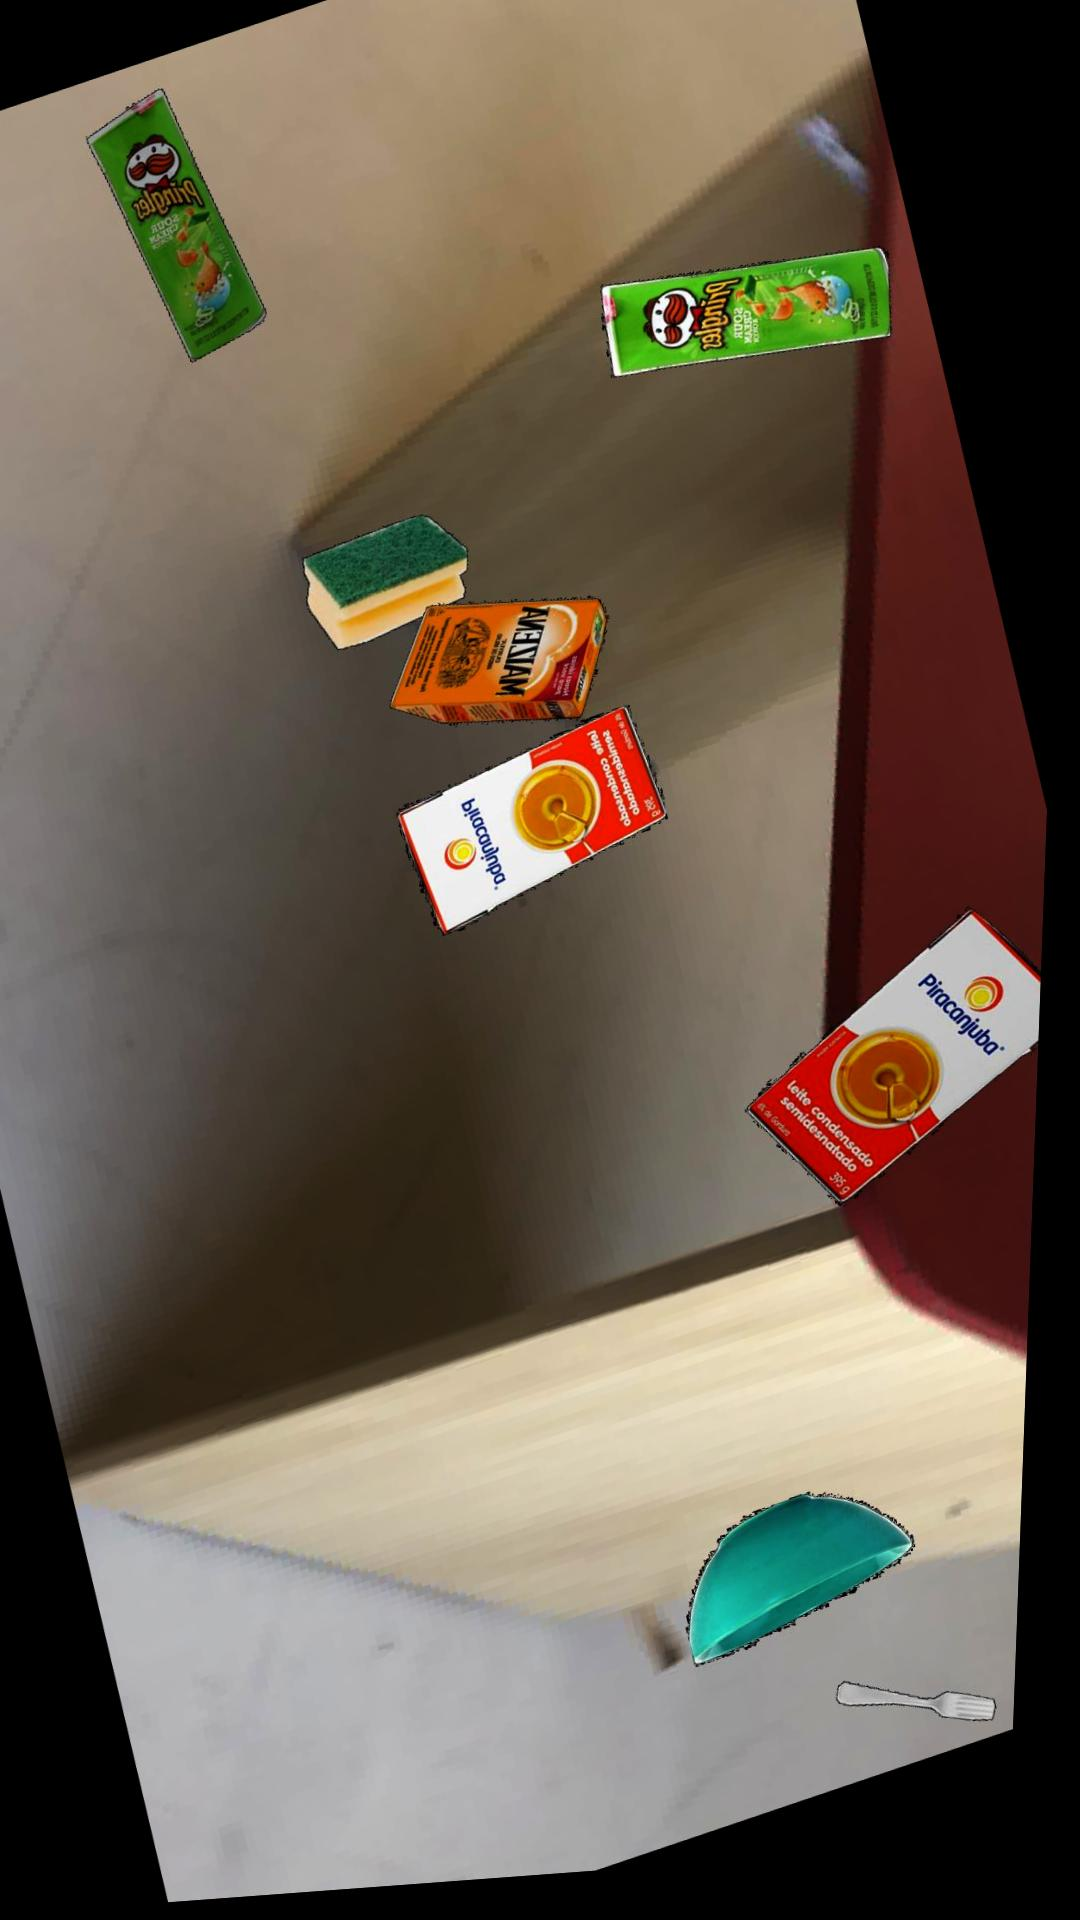bowl: (696, 1503, 924, 1675)
fork: (848, 1693, 1007, 1735)
pringles: (84, 90, 266, 364), (601, 258, 891, 386)
sponge: (305, 520, 469, 654)
